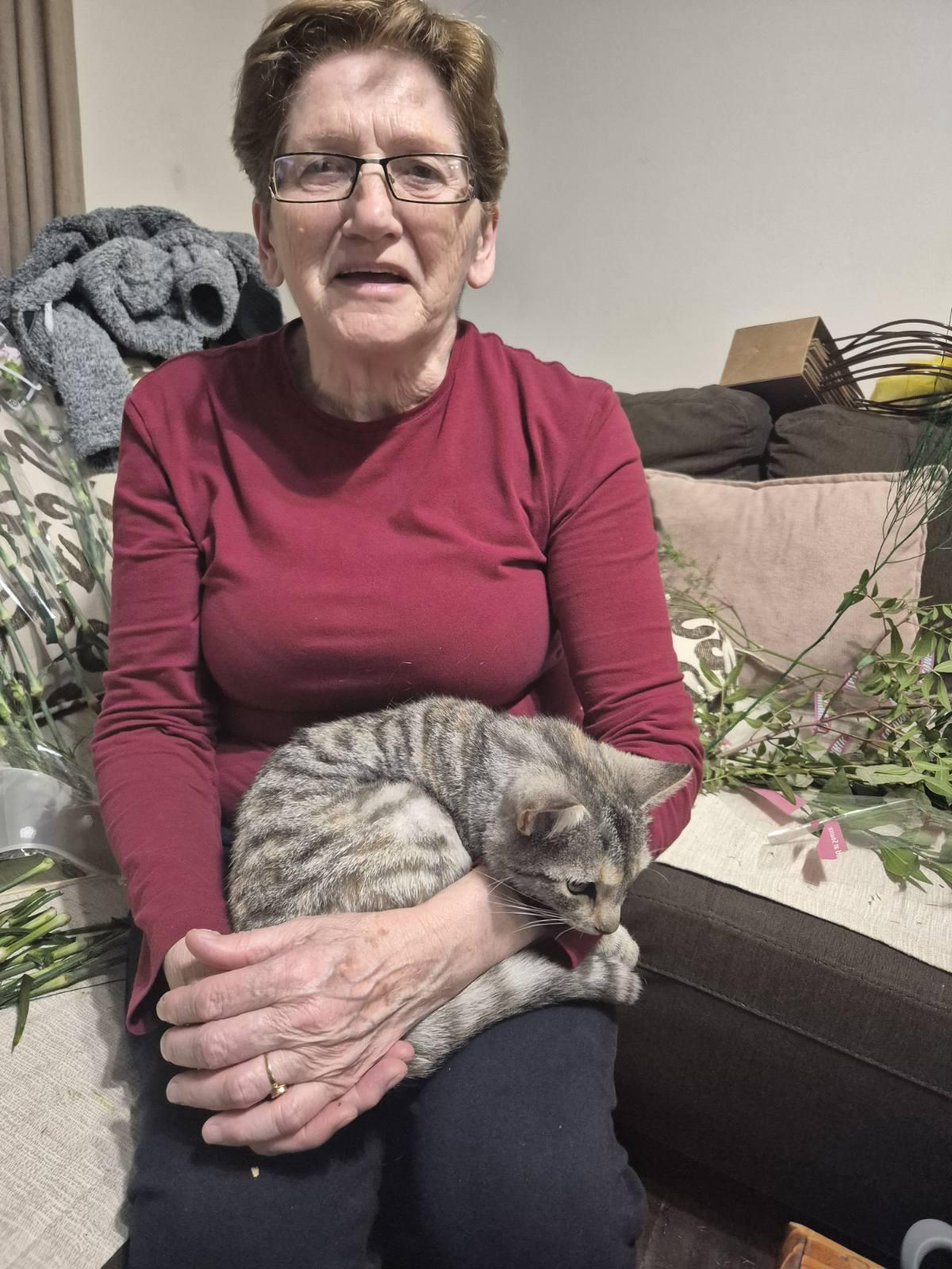macka: (227, 699, 701, 1077)
